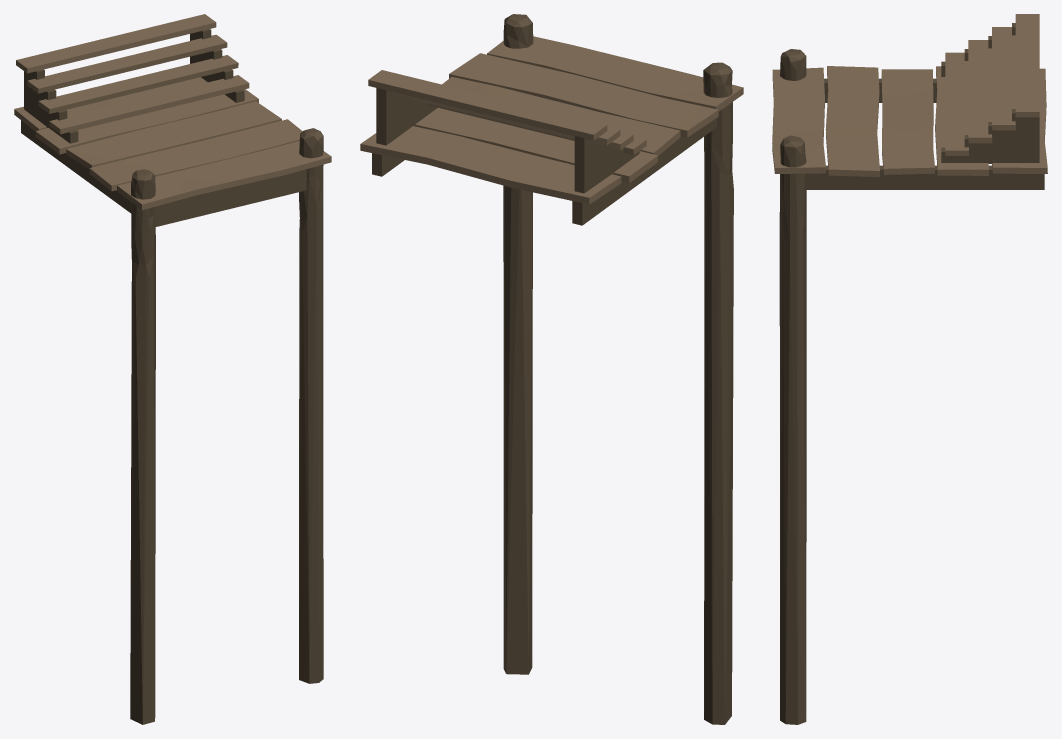
The model's file is port_wooden_bridge_b_stairs.FBX.
3 views of the same model, side by side, from view 1: azimuth 30°, elevation 25°; view 2: azimuth 150°, elevation 25°; view 3: azimuth 270°, elevation 25° (orthographic). The views are drawn at different scales.
Parts seen in each view (by area): view 1: port_wooden_bridge_b_stairs; view 2: port_wooden_bridge_b_stairs; view 3: port_wooden_bridge_b_stairs.
Part boxes in pixels (bbox=[...]): port_wooden_bridge_b_stairs: bbox=[14, 14, 331, 724]; port_wooden_bridge_b_stairs: bbox=[360, 14, 743, 724]; port_wooden_bridge_b_stairs: bbox=[772, 14, 1047, 724].
Bounding box in the file's own units: 3.69 × 10.09 × 4.11.
